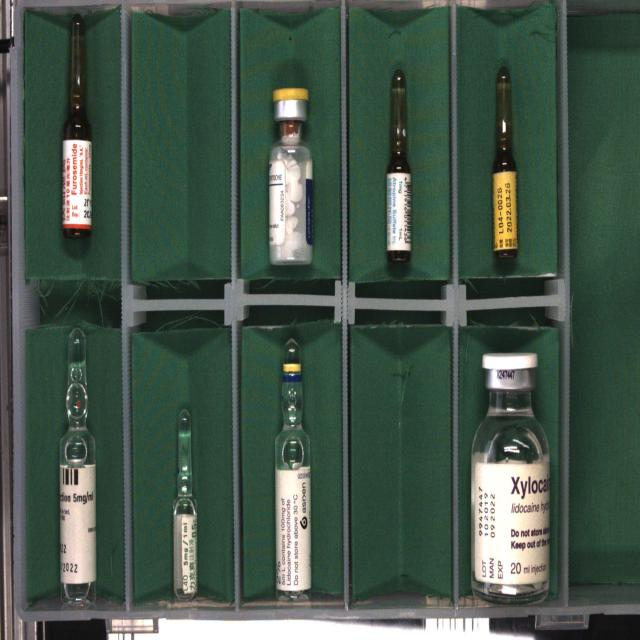Vials: (471, 353, 550, 602), (269, 87, 313, 265)
